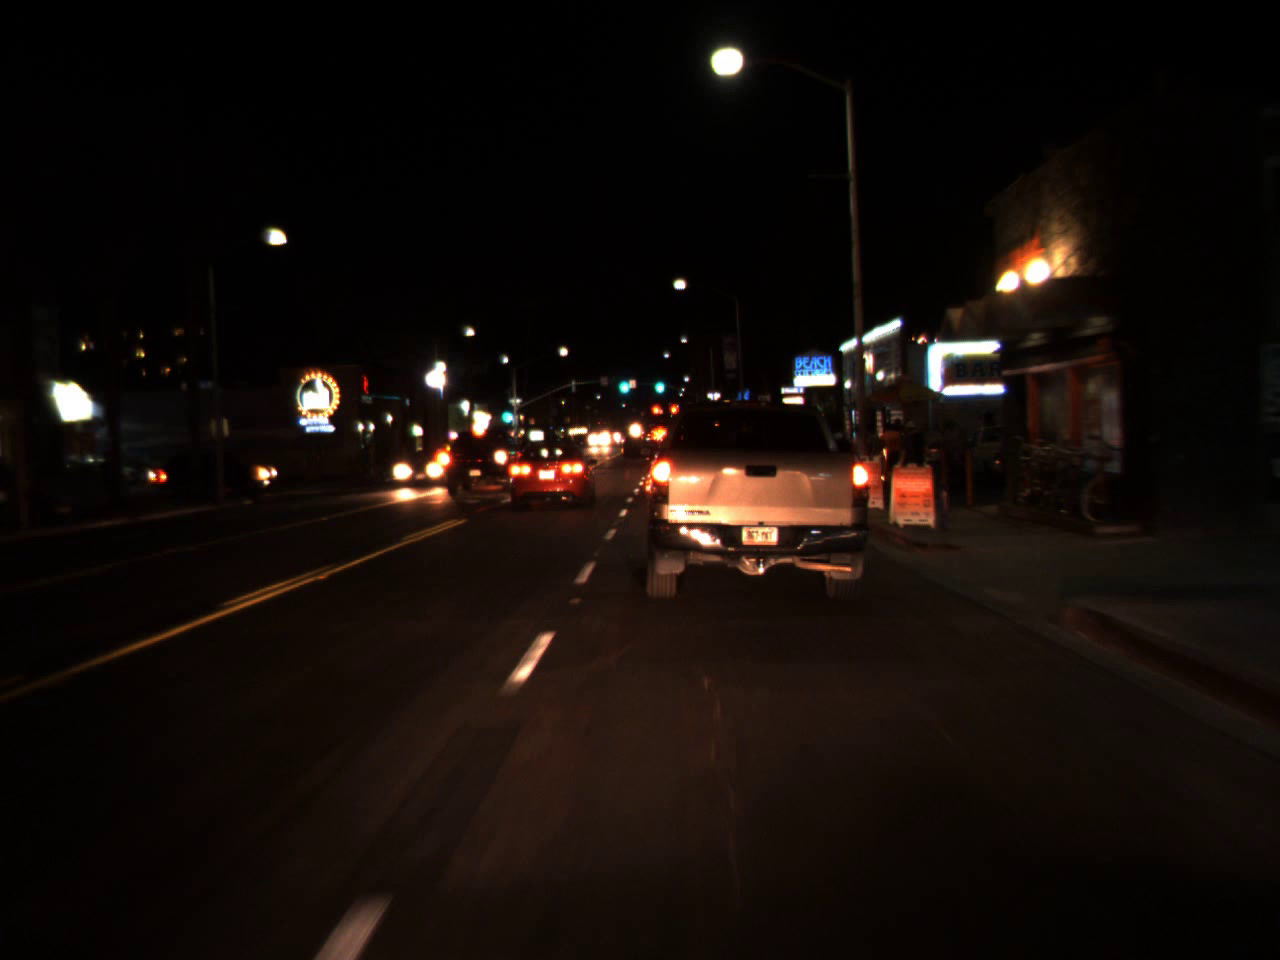go: (615, 367, 633, 397), (652, 368, 666, 398), (498, 398, 514, 425)
